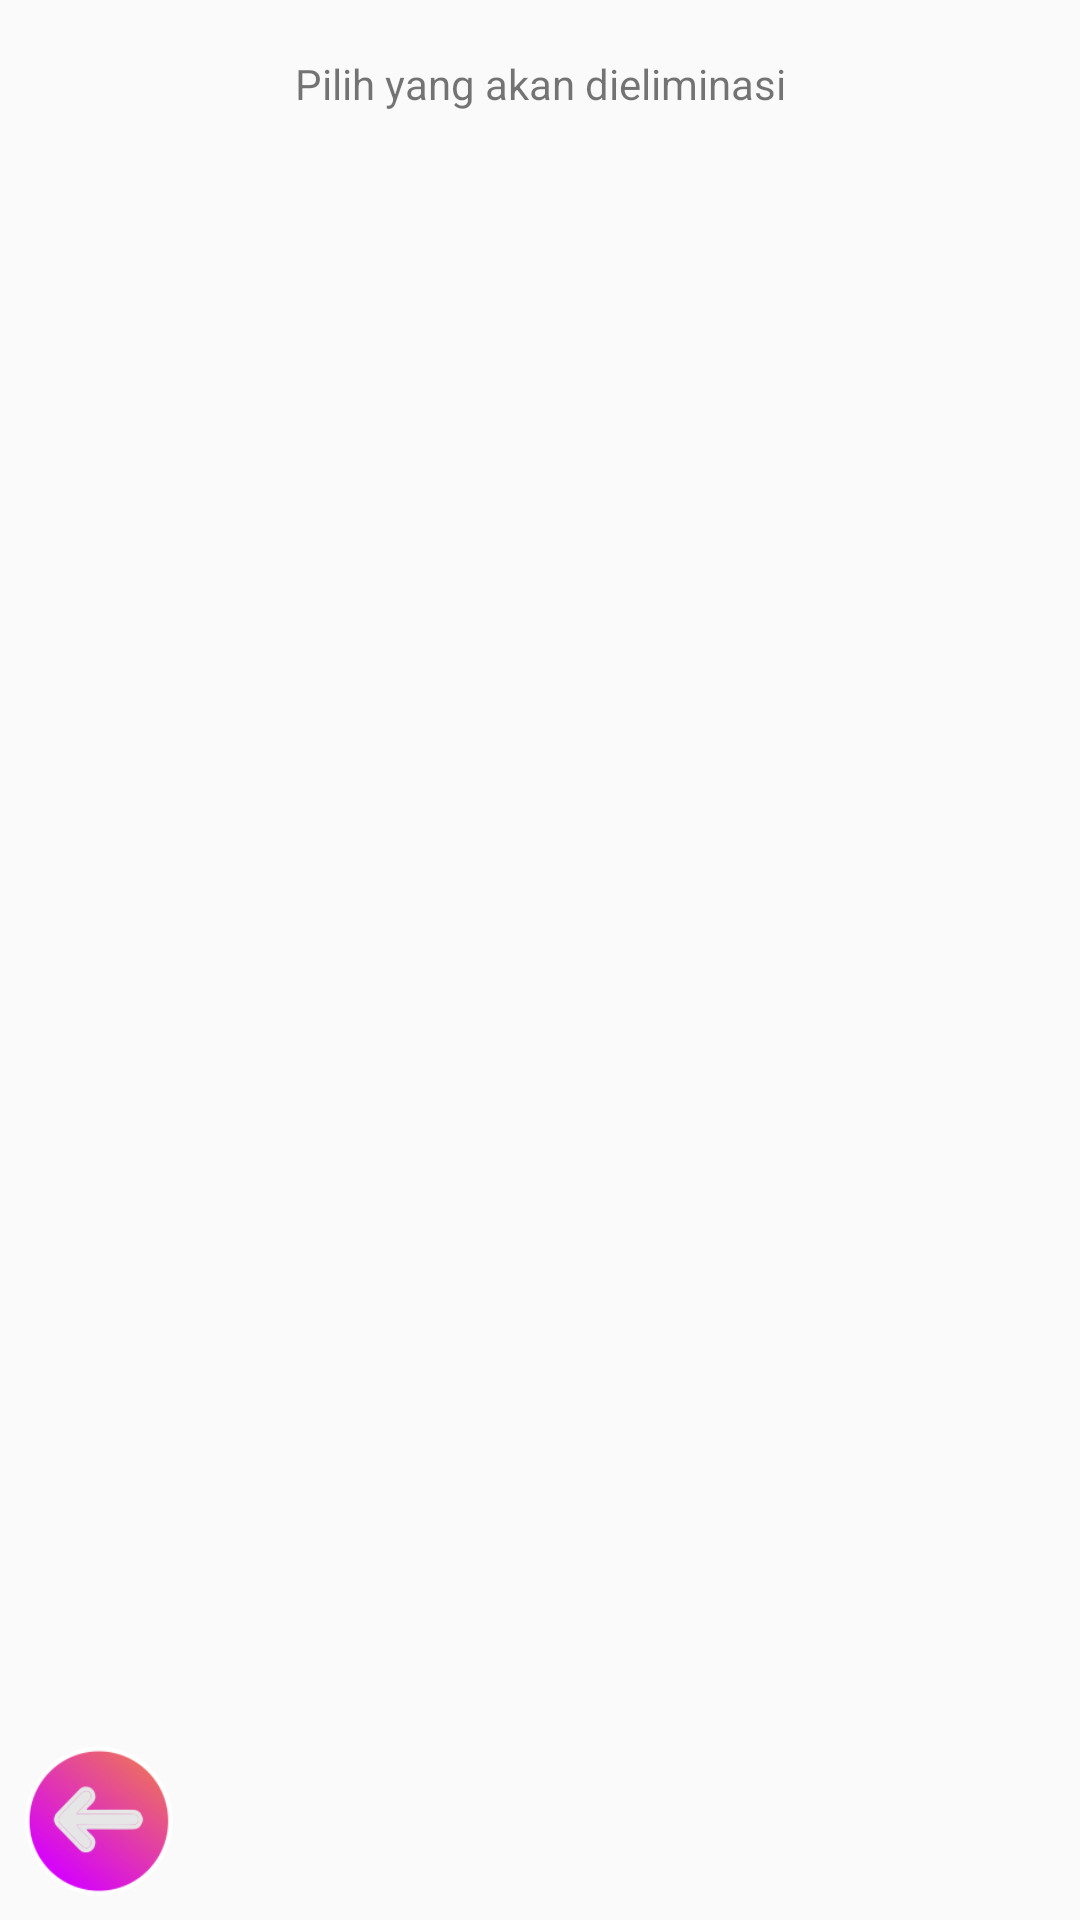

Where icons sit on this 1080*1920 app screen, as (x1, y1, x2, y2):
back: (29, 1751, 169, 1892)
